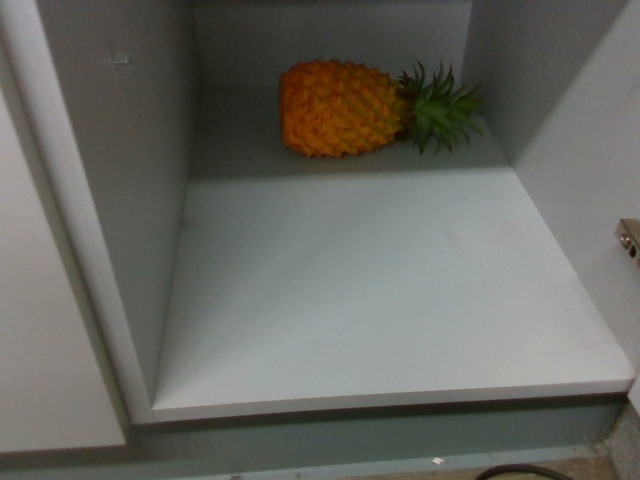pineapple: (276, 56, 486, 160)
